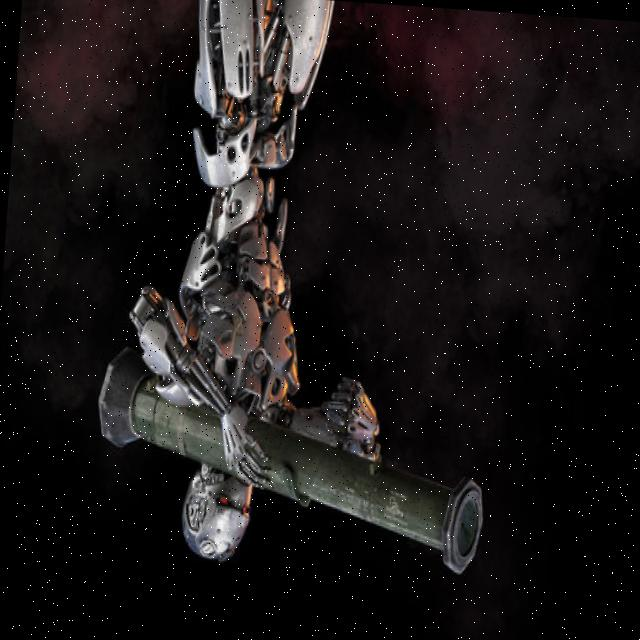Bazooka: (90, 331, 494, 579)
